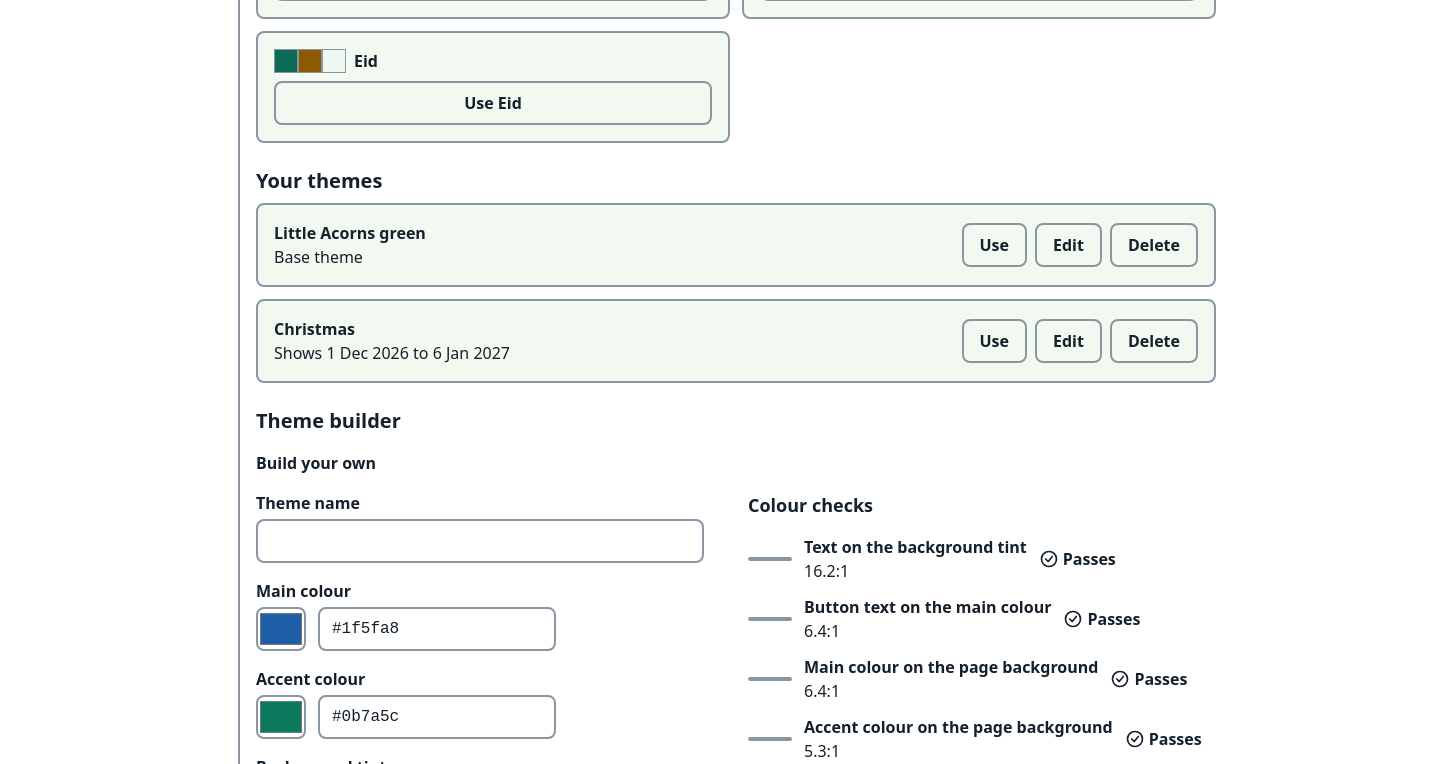
Test: C17 Themes page (BP-7) › makes a saved theme the base with its Use button
The width and height of the screenshot is (1440, 764).
(page scrolled)
Expected: the element "Your themes" is shown, [256,167,1216,383]
Click the button with aria-label "Use Christmas": (994, 341) [962,319,1027,363]
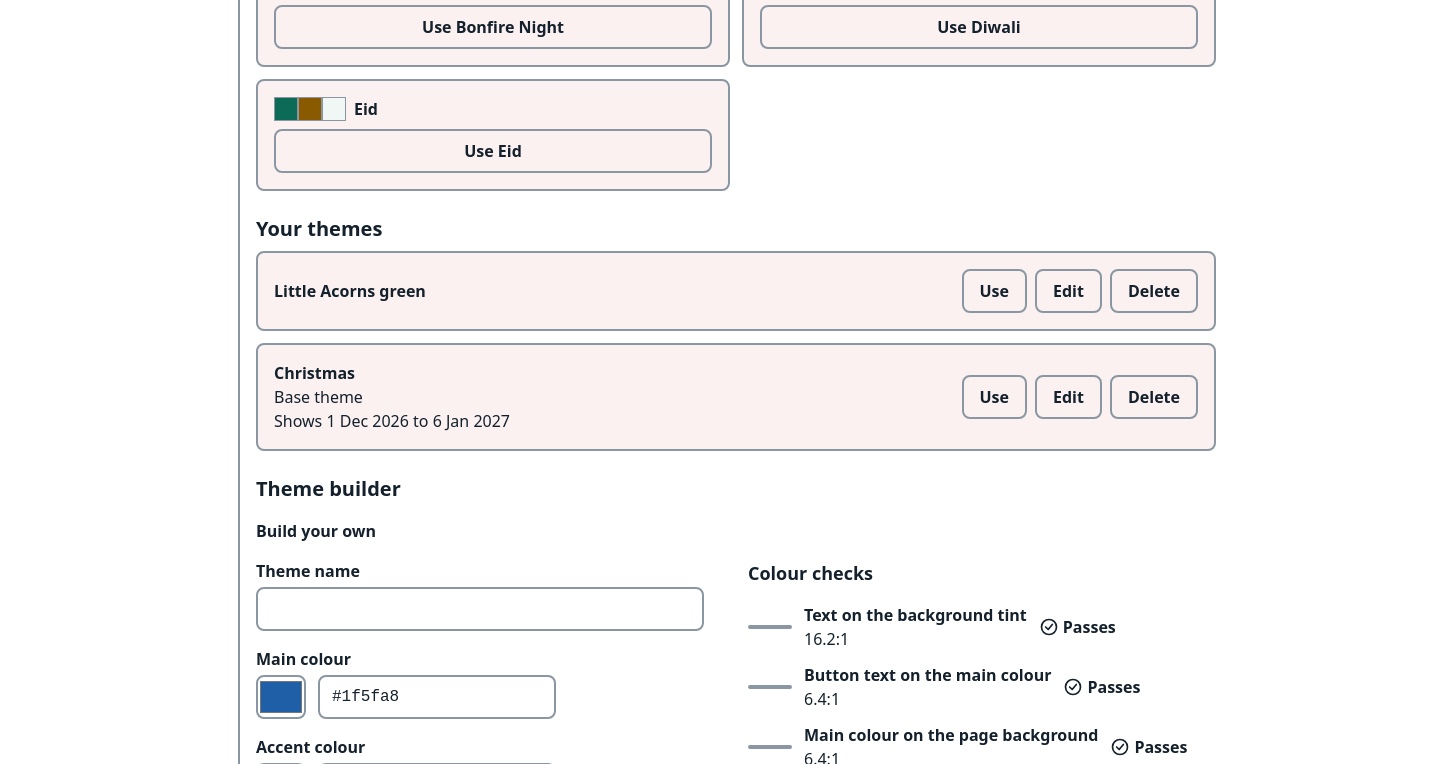
Result: the list item "Christmas" shows "Base theme" at [274,386,363,408]
